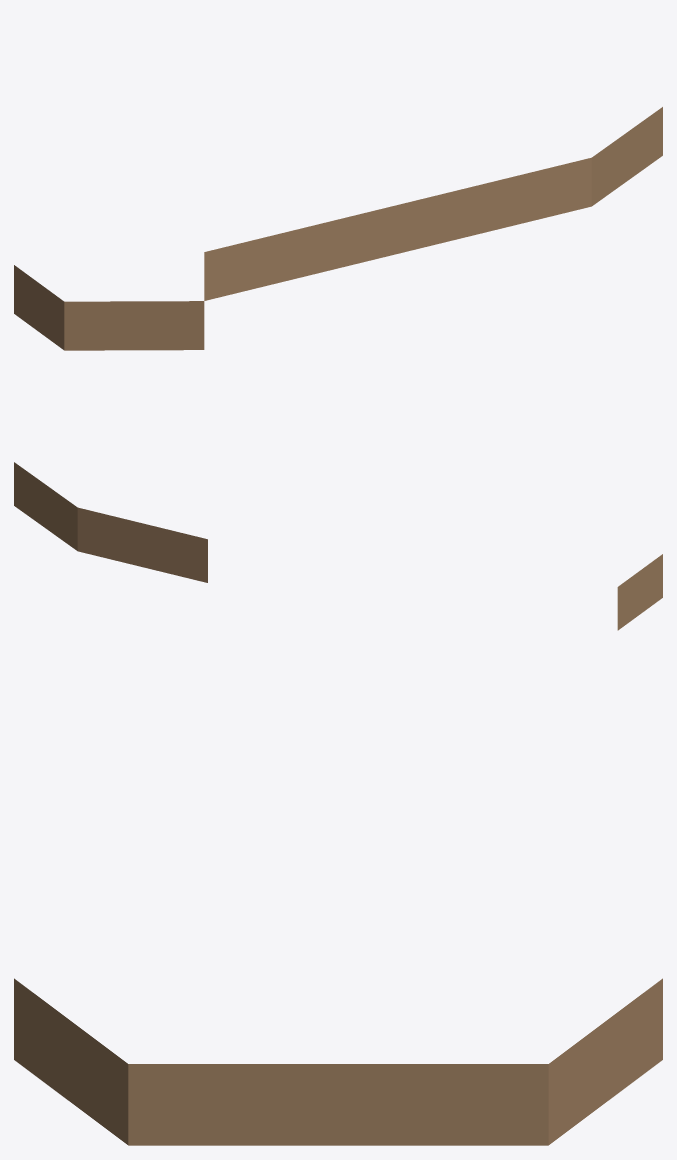
File: 1426-Buildings-shell-pieces-facade-bay-wall-round-an-opening-reveals-sill-head-emitBa.glb
The picture shows the model from 3 angles, top to bottom: view 1: azimuth 30°, elevation 25°; view 2: azimuth 150°, elevation 25°; view 3: azimuth 270°, elevation 25°; orthographic projection. The views are drawn at different scales.
Parts seen in each view (by area): view 1: emitBay; view 2: emitBay; view 3: emitBay.
Boxes of the visible parts, x1,y1,x2,y2 form: emitBay: [14, 107, 662, 350]; emitBay: [14, 462, 662, 630]; emitBay: [14, 978, 662, 1145].
Bounding box in the file's own units: 39 × 6.1 × 22.
